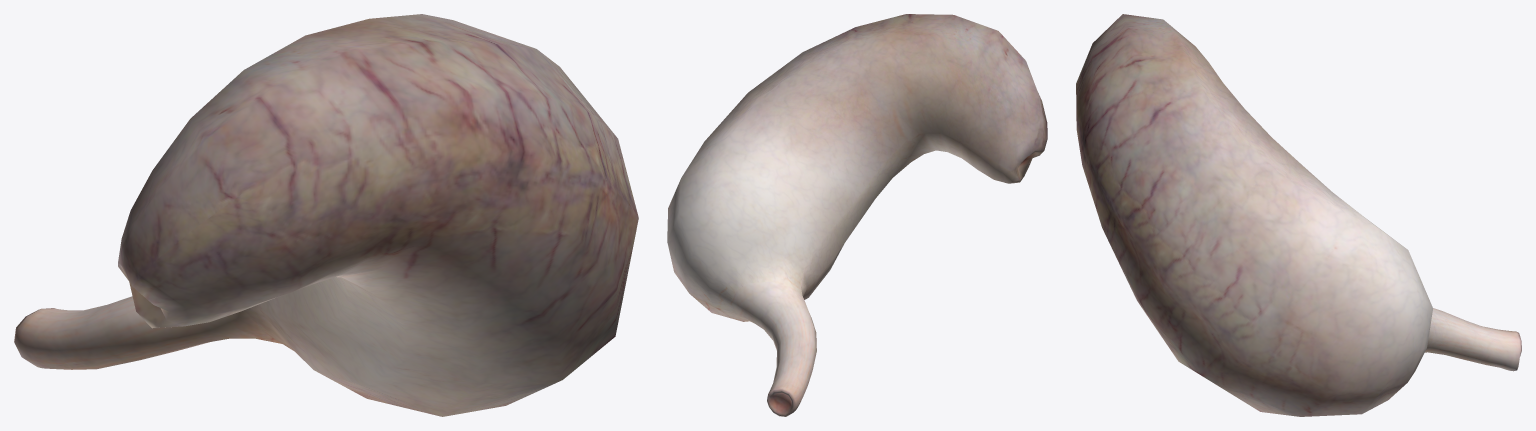
Rendered from asset3.glb.
3 views of the same model, side by side, from view 1: azimuth 30°, elevation 25°; view 2: azimuth 150°, elevation 25°; view 3: azimuth 270°, elevation 25° (orthographic). The views are drawn at different scales.
Parts seen in each view (by area): view 1: Stomach_pivot; view 2: Stomach_pivot; view 3: Stomach_pivot.
Boxes of the visible parts, bbox=[...] form: Stomach_pivot: bbox=[14, 14, 638, 416]; Stomach_pivot: bbox=[667, 14, 1047, 416]; Stomach_pivot: bbox=[1076, 14, 1521, 416].
Size of the model in its own units: 0.1982 by 0.1833 by 0.2212.
1 material, 1 textured.
